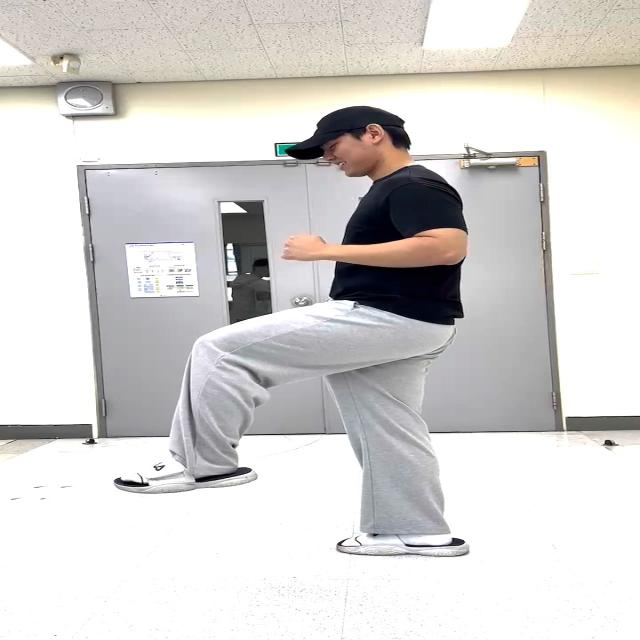leg: (112, 297, 384, 500)
